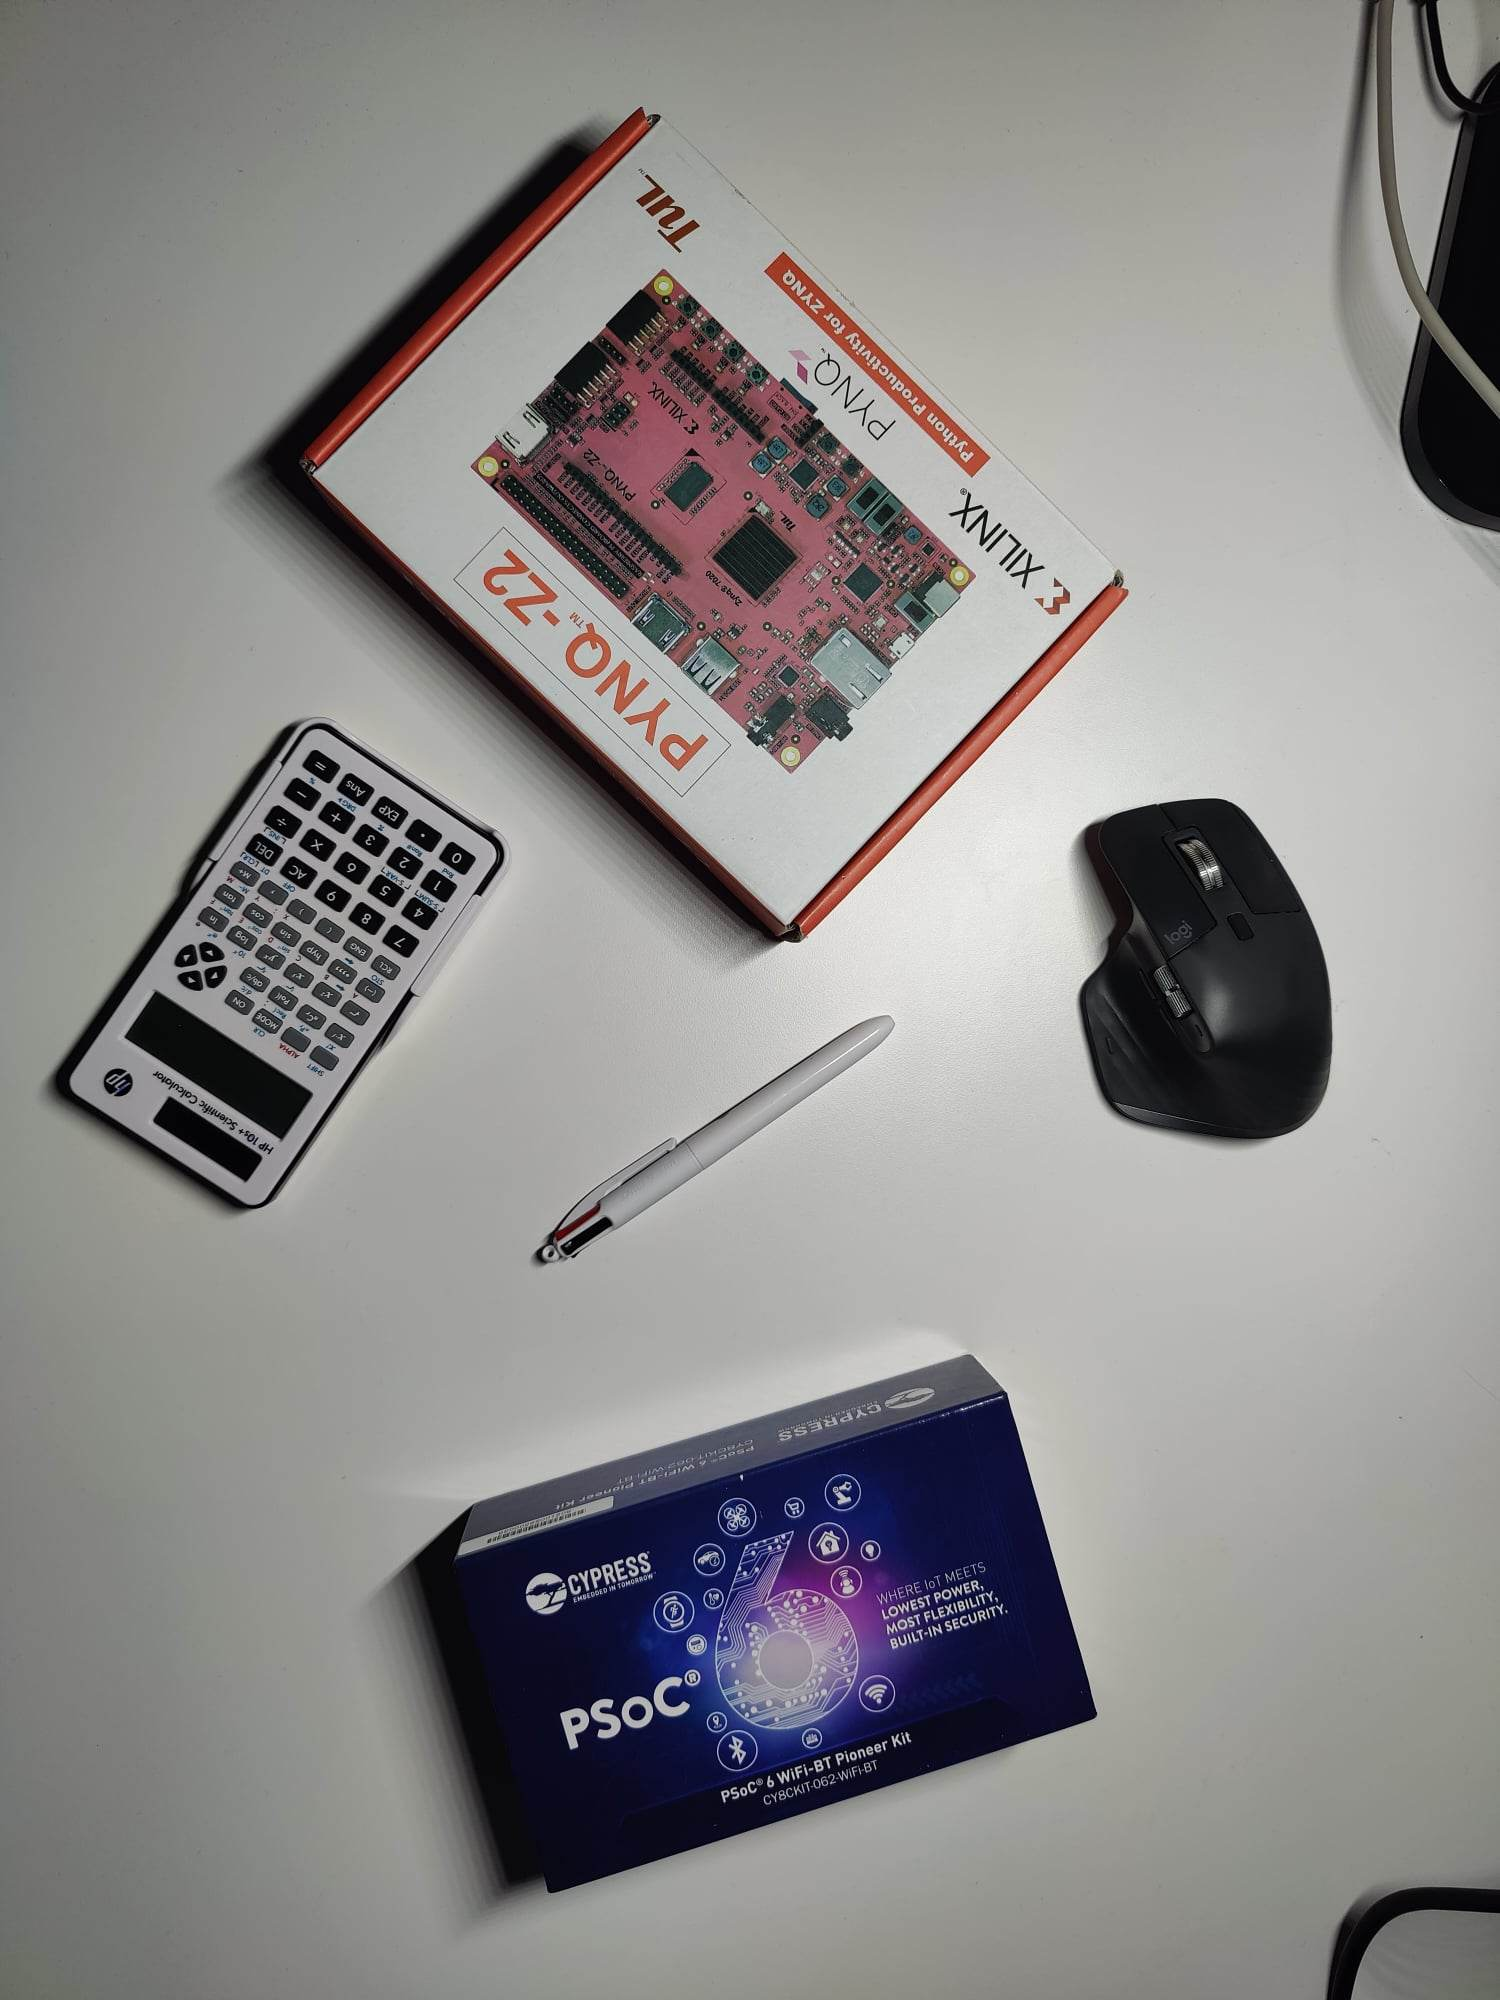Muis: (1053, 781, 1368, 1162)
PSoC_6: (425, 1340, 1125, 1909)
Pen: (512, 991, 912, 1280)
Rekenmachine: (39, 706, 512, 1216)
